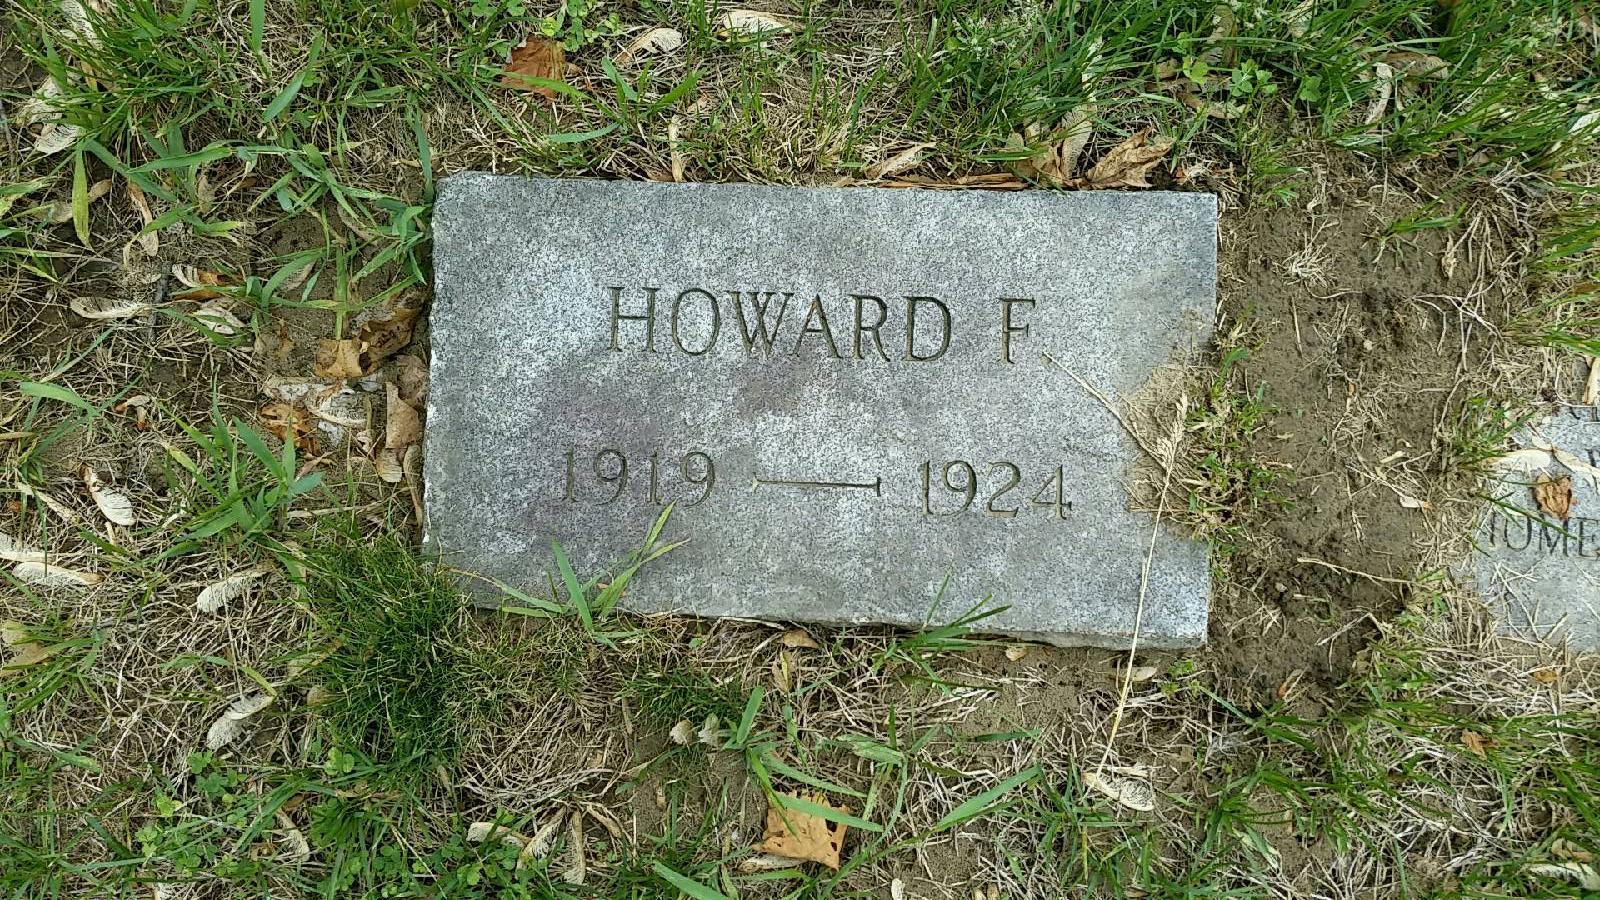flat: (416, 166, 1220, 648)
